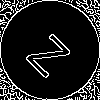Z: (25, 25, 79, 79)
